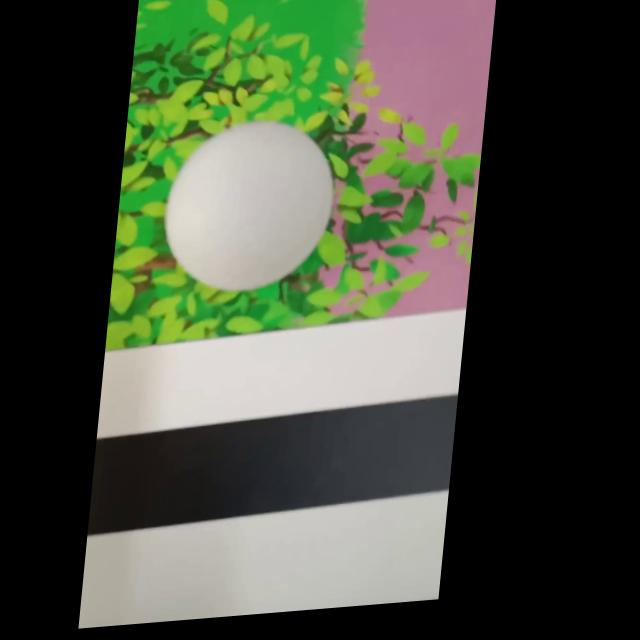white ball: (156, 113, 342, 299)
